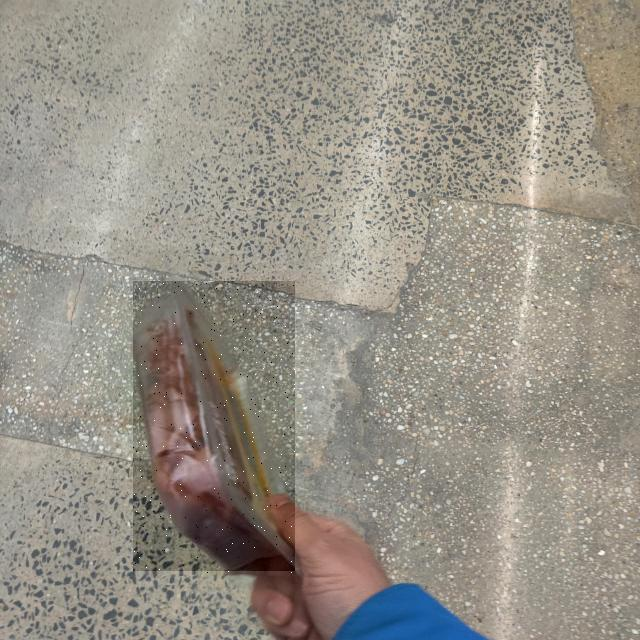Meat: (133, 282, 295, 574)
